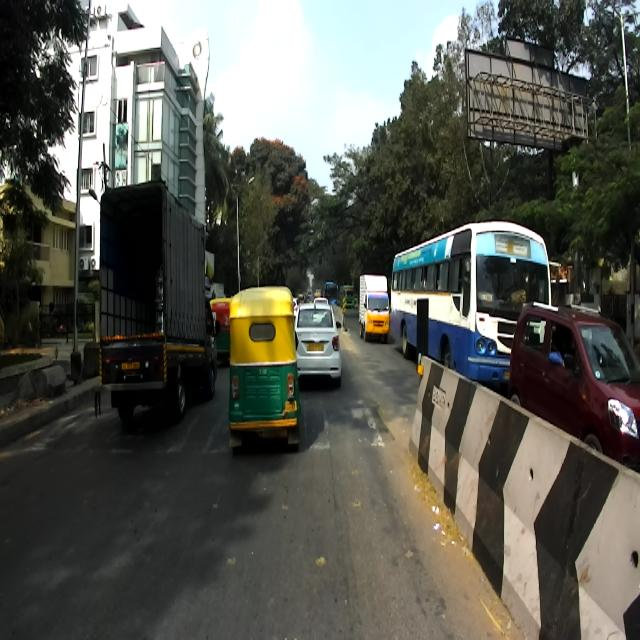auto ahead at: (230, 288, 302, 446)
car ahead at: (508, 300, 640, 462), (298, 305, 339, 384)
truck ahead at: (97, 185, 221, 414)
